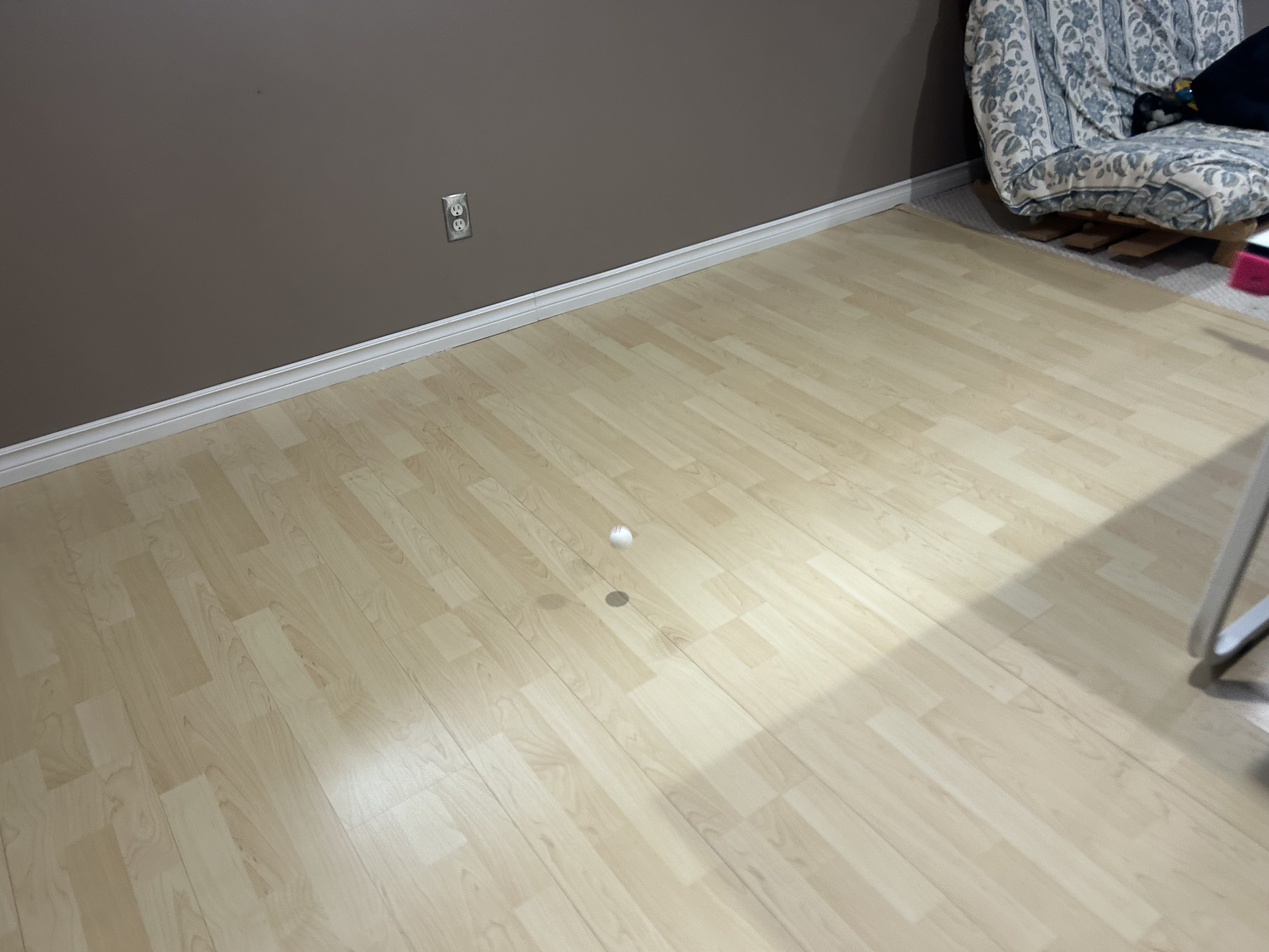Ball: (607, 523, 643, 553)
